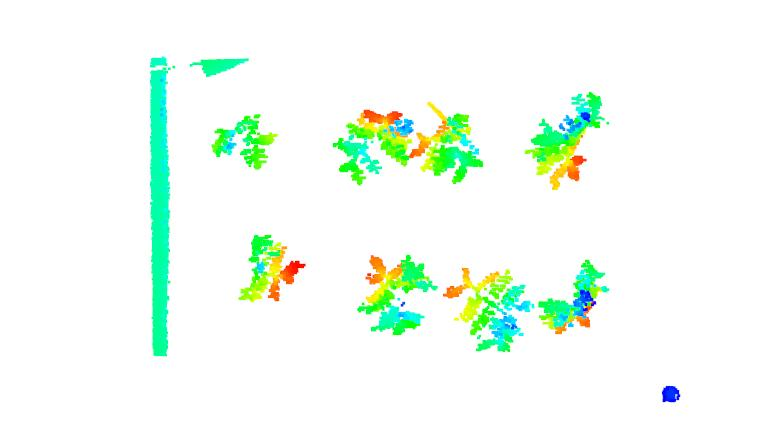chickpea: (443, 267, 534, 356), (525, 93, 608, 190), (355, 252, 438, 336), (410, 100, 486, 183), (332, 108, 412, 183), (534, 258, 607, 336), (231, 233, 307, 302), (212, 113, 278, 169)
